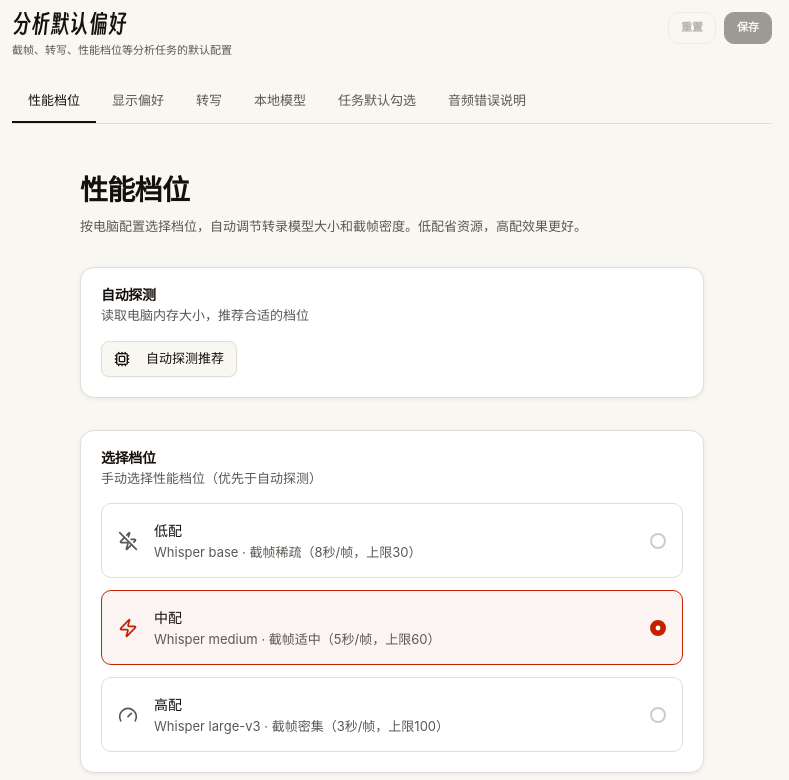
Test: AnalysisDefaultsPage task defaults › 读取并展示全部笔记任务默认值，不出现音乐或模型字段
Click the tab "任务默认勾选": click(377, 101) [322,80,432,123]
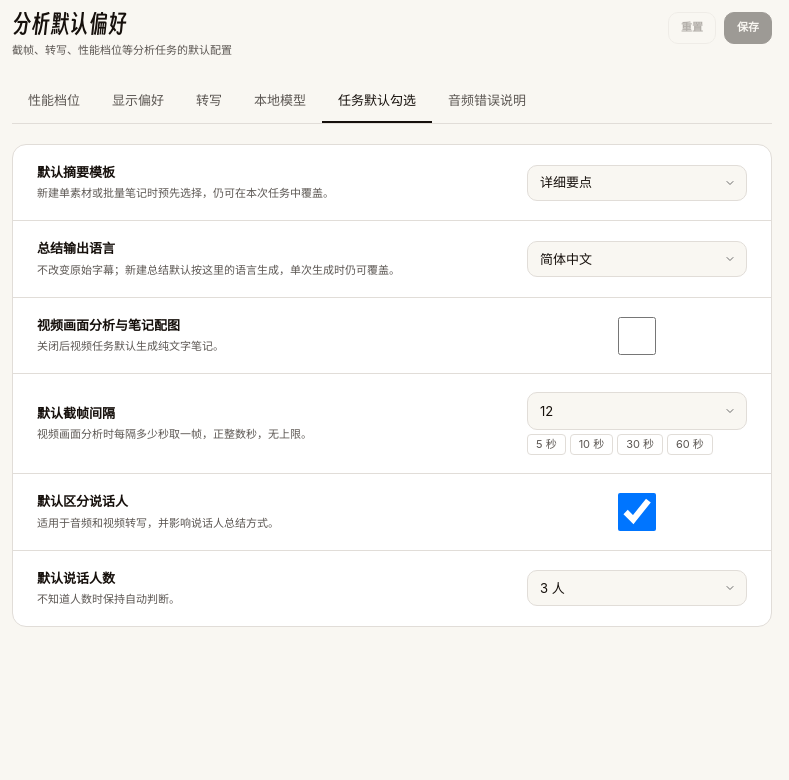
Expected: the dropdown labelled "默认摘要模板" shows "详细要点", [527,164,747,200]
Expected: the checkbox labelled "视频画面分析与笔记配图" is not checked, [527,317,747,355]
Expected: the number field labelled "默认截帧间隔" holds "12", [527,392,747,430]
